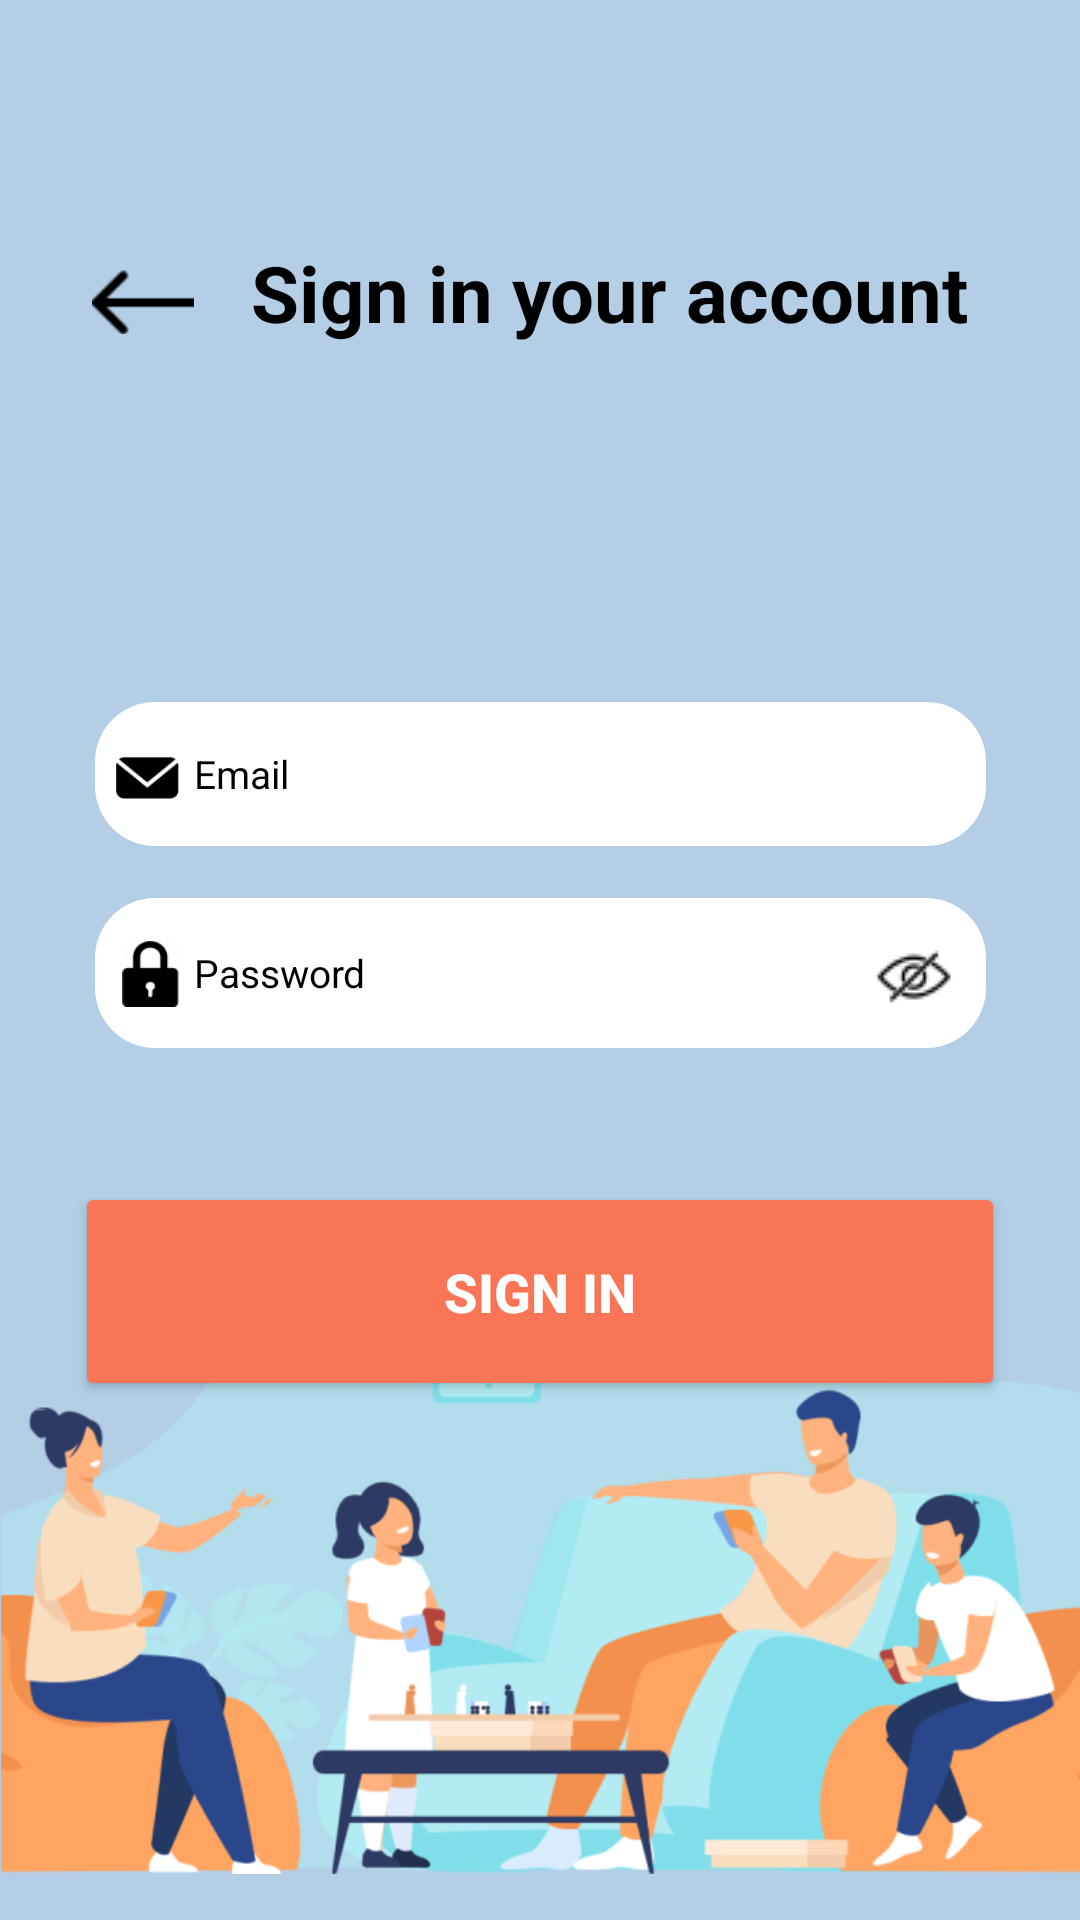

Where to tap for icons on this 1080w x 1920h app screen, as point (x, y):
Back Button: point (143, 302)
eye hidden: point (914, 976)
lock: point (150, 974)
